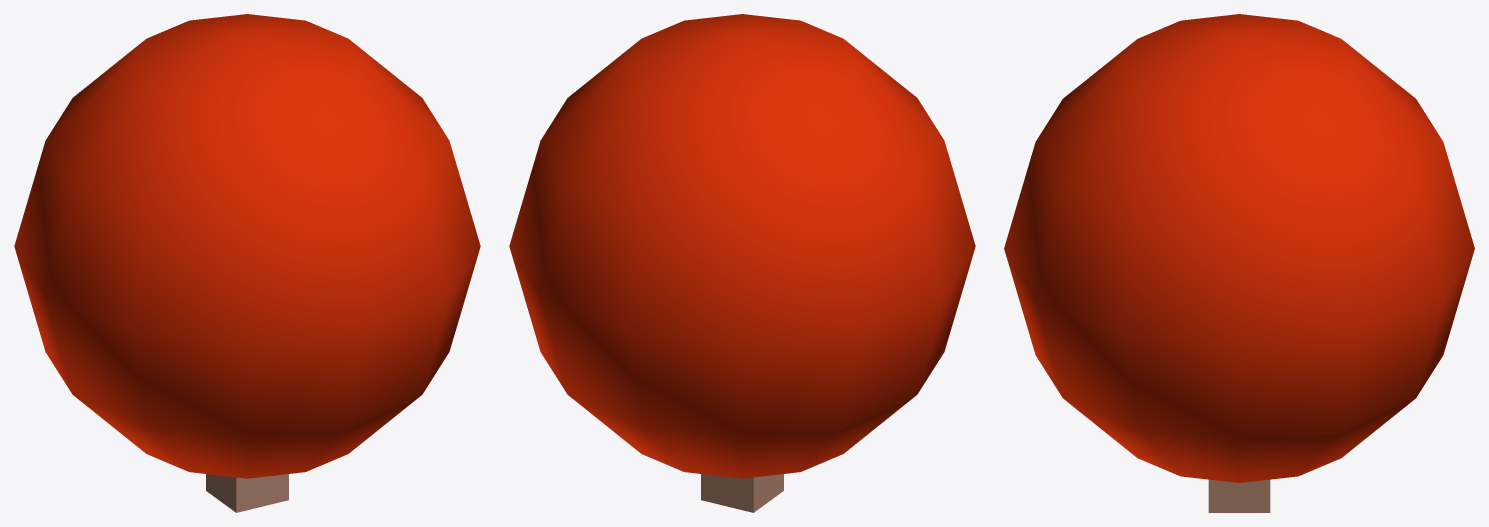
File: Kustik.fbx
The picture shows the model from 3 angles, left to right: view 1: azimuth 30°, elevation 25°; view 2: azimuth 150°, elevation 25°; view 3: azimuth 270°, elevation 25°; orthographic projection.
Visible parts, largest first — view 1: Kustik; view 2: Kustik; view 3: Kustik.
Boxes of the visible parts, box(x1,y1,x2,y2) form: Kustik: box(14, 14, 480, 512); Kustik: box(509, 14, 975, 512); Kustik: box(1004, 14, 1474, 512).
Size of the model in its own units: 0.3271 by 0.3563 by 0.3271.
